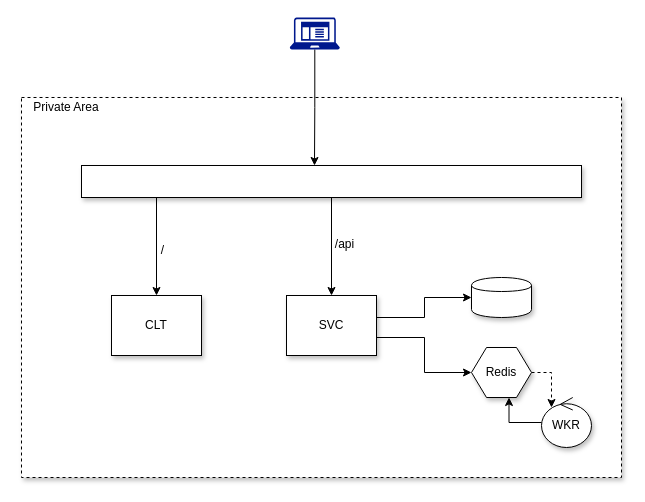
The diagram is 645 pixels wide and 502 high, and some of its shapes have lost their labels. The shapes that lost their labels are listed below. From the top down, each one's centre as x and y in pixels, then its label:
pixel 332 182: NGINX
pixel 502 298: Postgres
